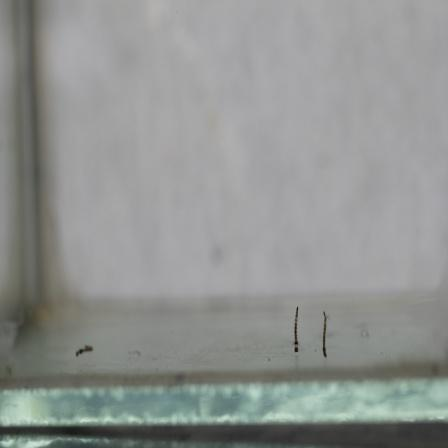Jentik-Nyamuk: (287, 303, 304, 355), (70, 338, 97, 363)
